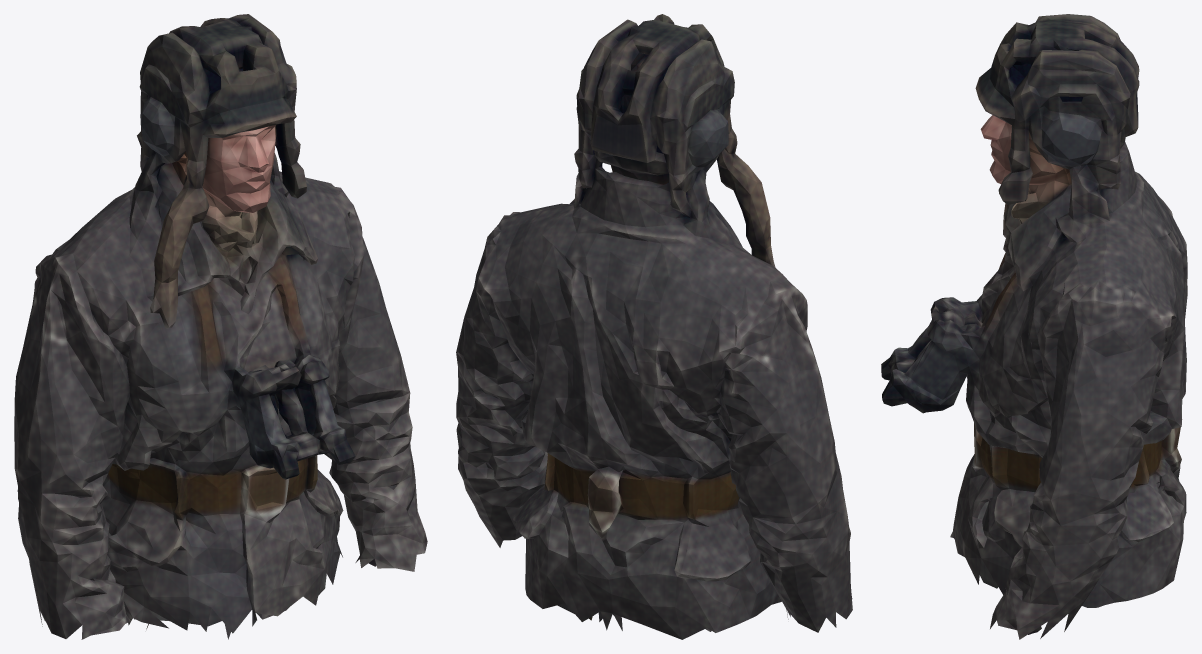
File: commander_su.obj
3 renders of one model, left to right at view 1: azimuth 30°, elevation 25°; view 2: azimuth 150°, elevation 25°; view 3: azimuth 270°, elevation 25°, orthographic. The views are drawn at different scales.
Parts seen in each view (by area): view 1: commander_su; view 2: commander_su; view 3: commander_su.
Part boxes in pixels (x1,y1,x2,y2): commander_su: (14, 14, 427, 639); commander_su: (456, 14, 852, 639); commander_su: (881, 14, 1187, 639).
Bounding box in the file's own units: 0.6846 × 0.9791 × 0.5082.
1 material, 1 textured.
